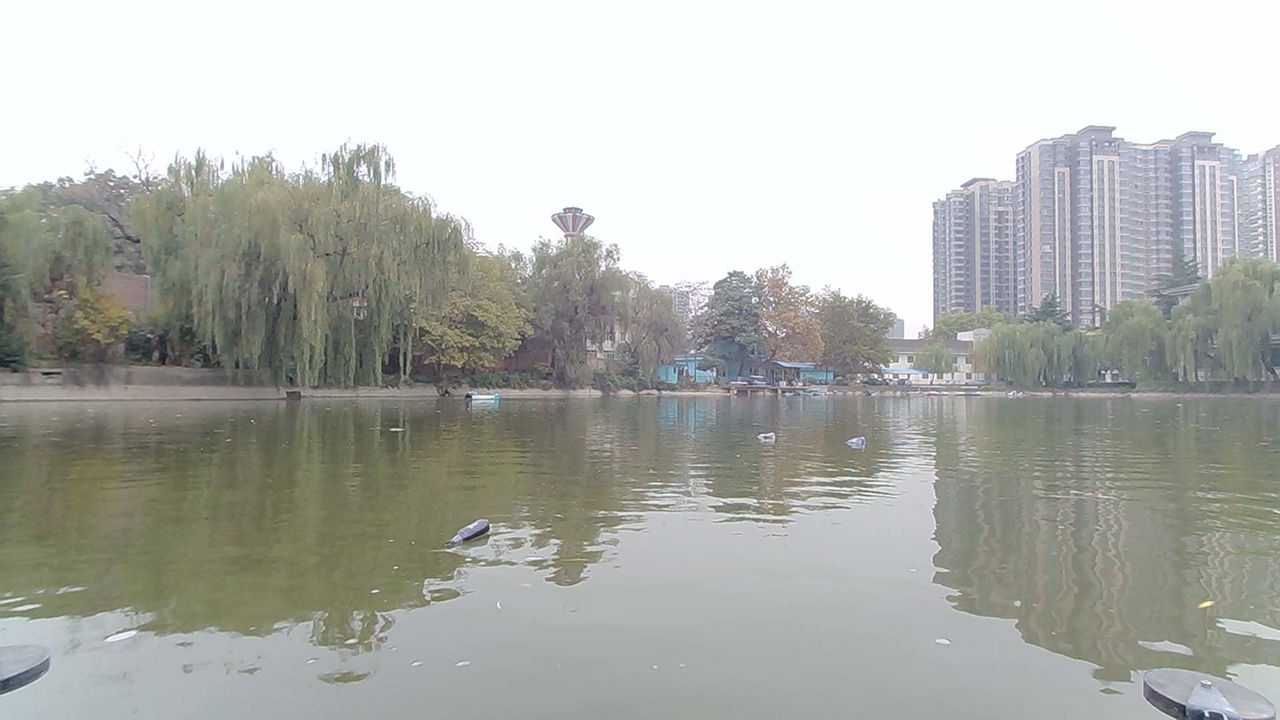bottle: (447, 498, 526, 548), (748, 419, 787, 445), (838, 434, 871, 451)
